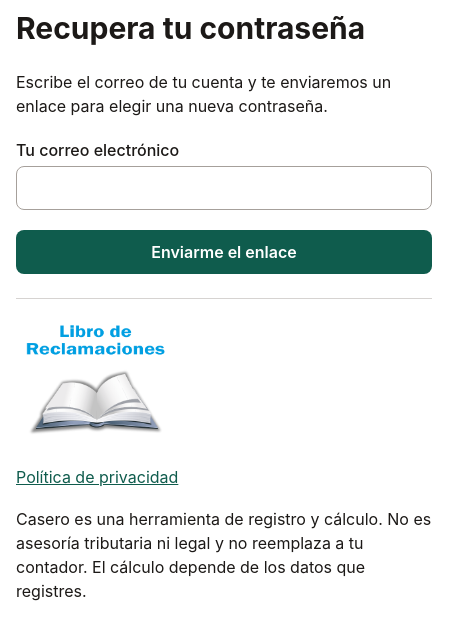
password recovery › sends the link without revealing whether the account exists
This screenshot has width=449, height=618.
Type "ana@example.com" into the field labelled "Tu correo electrónico" at (224, 188), box x1=16 y1=166 x2=432 y2=210
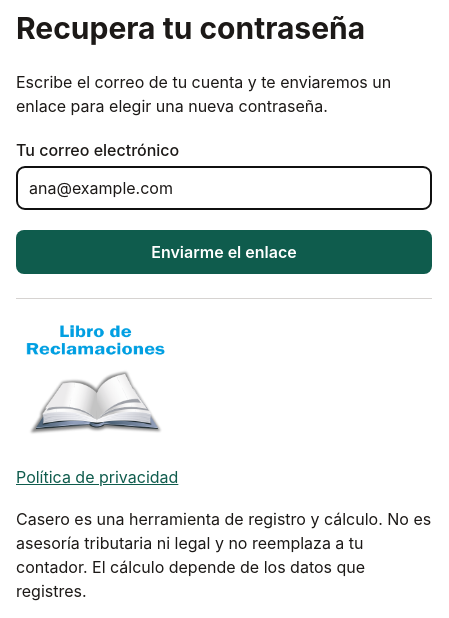
Click the button "Enviarme el enlace" at (224, 252), box x1=16 y1=230 x2=432 y2=274
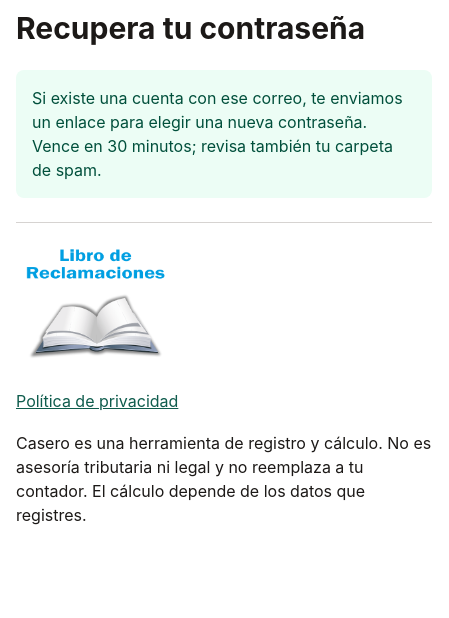
Result: the message shows "Si existe una cuenta" at x1=32 y1=88 x2=403 y2=180
